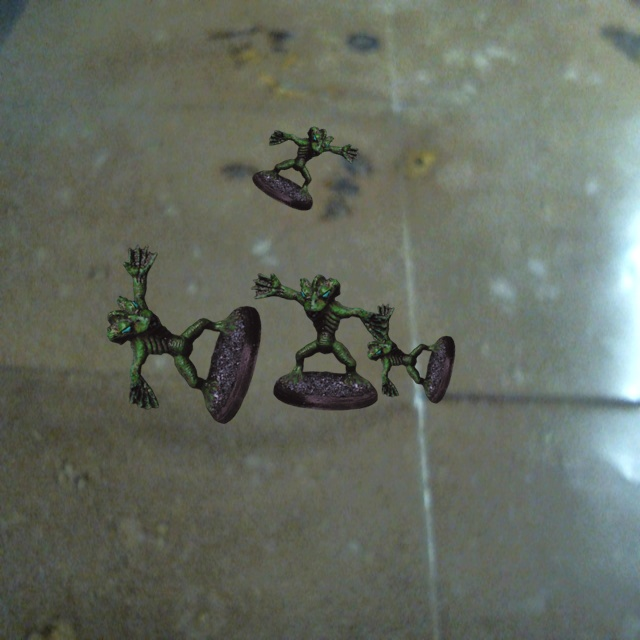pieza_juego: (107, 245, 260, 423), (251, 273, 386, 410), (252, 126, 358, 210), (367, 304, 454, 403)
